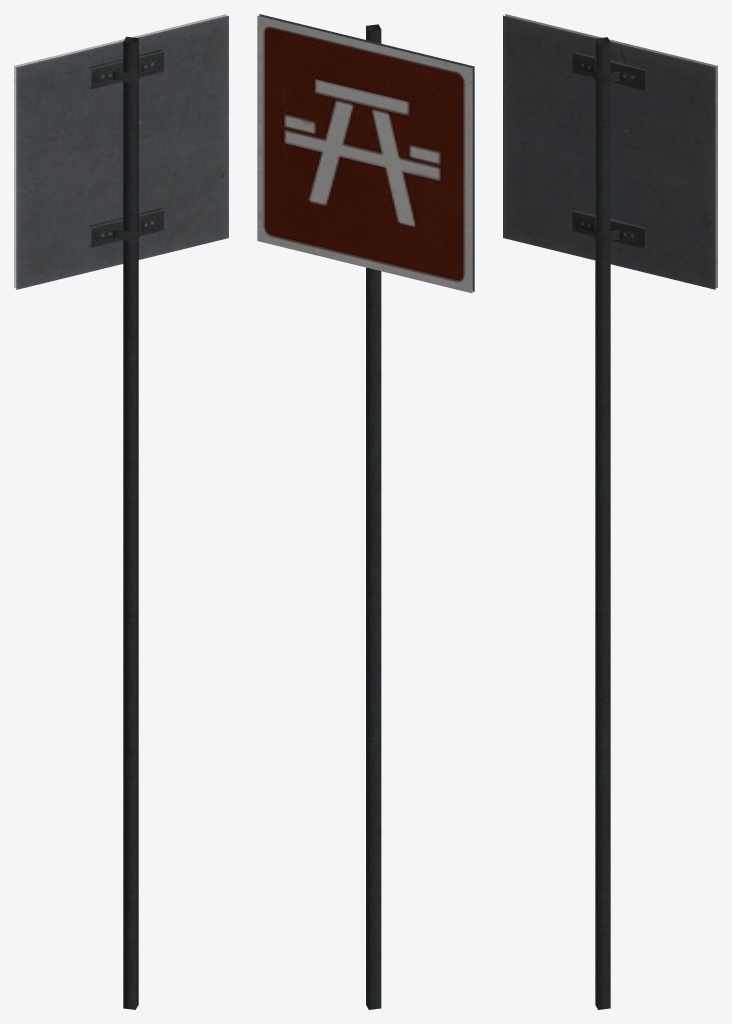
The model's file is Picnic_Area.glb.
3 views of the same model, side by side, from view 1: azimuth 30°, elevation 25°; view 2: azimuth 150°, elevation 25°; view 3: azimuth 330°, elevation 25° (orthographic).
Parts seen in each view (by area): view 1: Picnic_Area__LOD1; view 2: Picnic_Area__LOD1; view 3: Picnic_Area__LOD1.
Boxes of the visible parts, x1,y1,x2,y2 form: Picnic_Area__LOD1: (14,14,228,1009); Picnic_Area__LOD1: (257,14,474,1009); Picnic_Area__LOD1: (503,14,717,1009).
Size of the model in its own units: 0.6891 by 2.99 by 0.0909.
Materials: 1 (1 with a texture image).
